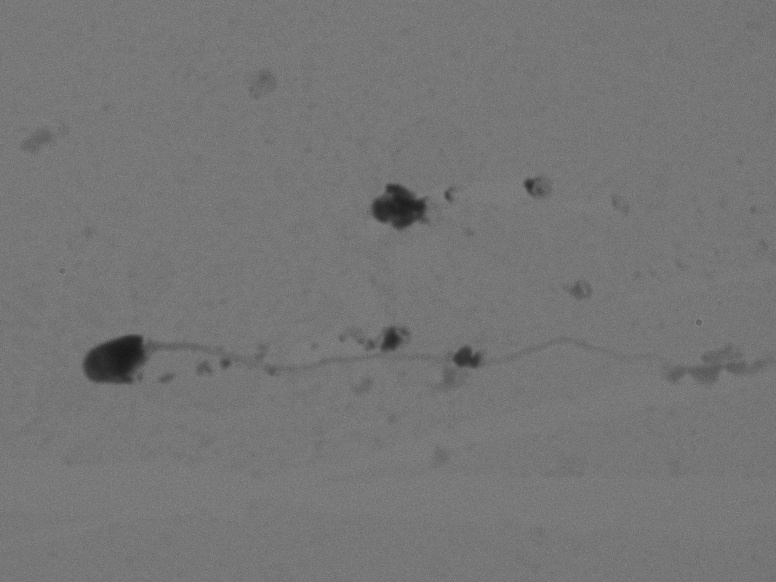Abnormal: (60, 278, 700, 448)
